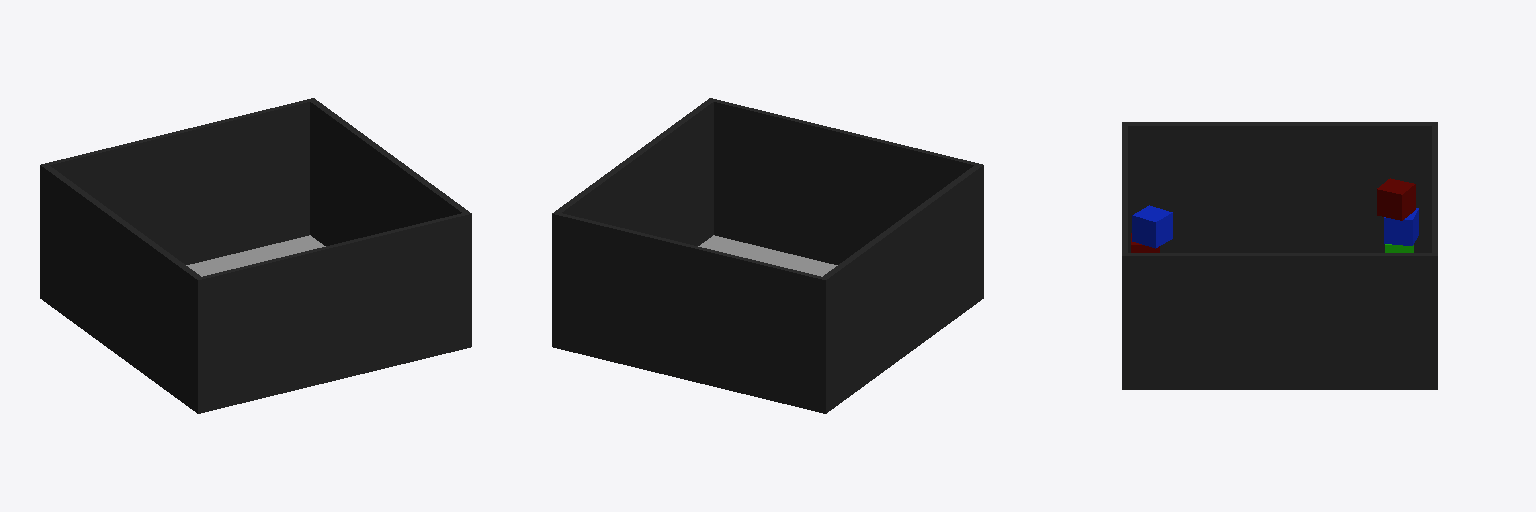
File: color_sample.obj
3 views of the same model, side by side, from view 1: azimuth 30°, elevation 25°; view 2: azimuth 150°, elevation 25°; view 3: azimuth 270°, elevation 25° (orthographic).
Visible parts, largest first — view 1: Plane.001, Plane.000_Plane.002; view 2: Plane.001, Plane.000_Plane.002; view 3: Plane.001, Cube.001_Cube.007, Cube.004_Cube.010, Cube.002_Cube.008.
Boxes of the visible parts, x1=… form: Plane.001: x1=40, y1=98, x2=471, y2=413; Plane.000_Plane.002: x1=186, y1=235, x2=325, y2=276; Plane.001: x1=552, y1=98, x2=983, y2=413; Plane.000_Plane.002: x1=698, y1=235, x2=837, y2=276; Plane.001: x1=1122, y1=122, x2=1437, y2=389; Cube.001_Cube.007: x1=1132, y1=205, x2=1172, y2=248; Cube.004_Cube.010: x1=1377, y1=178, x2=1415, y2=220; Cube.002_Cube.008: x1=1384, y1=208, x2=1418, y2=245.
Bounding box in the file's own units: 7 × 3.26 × 7.